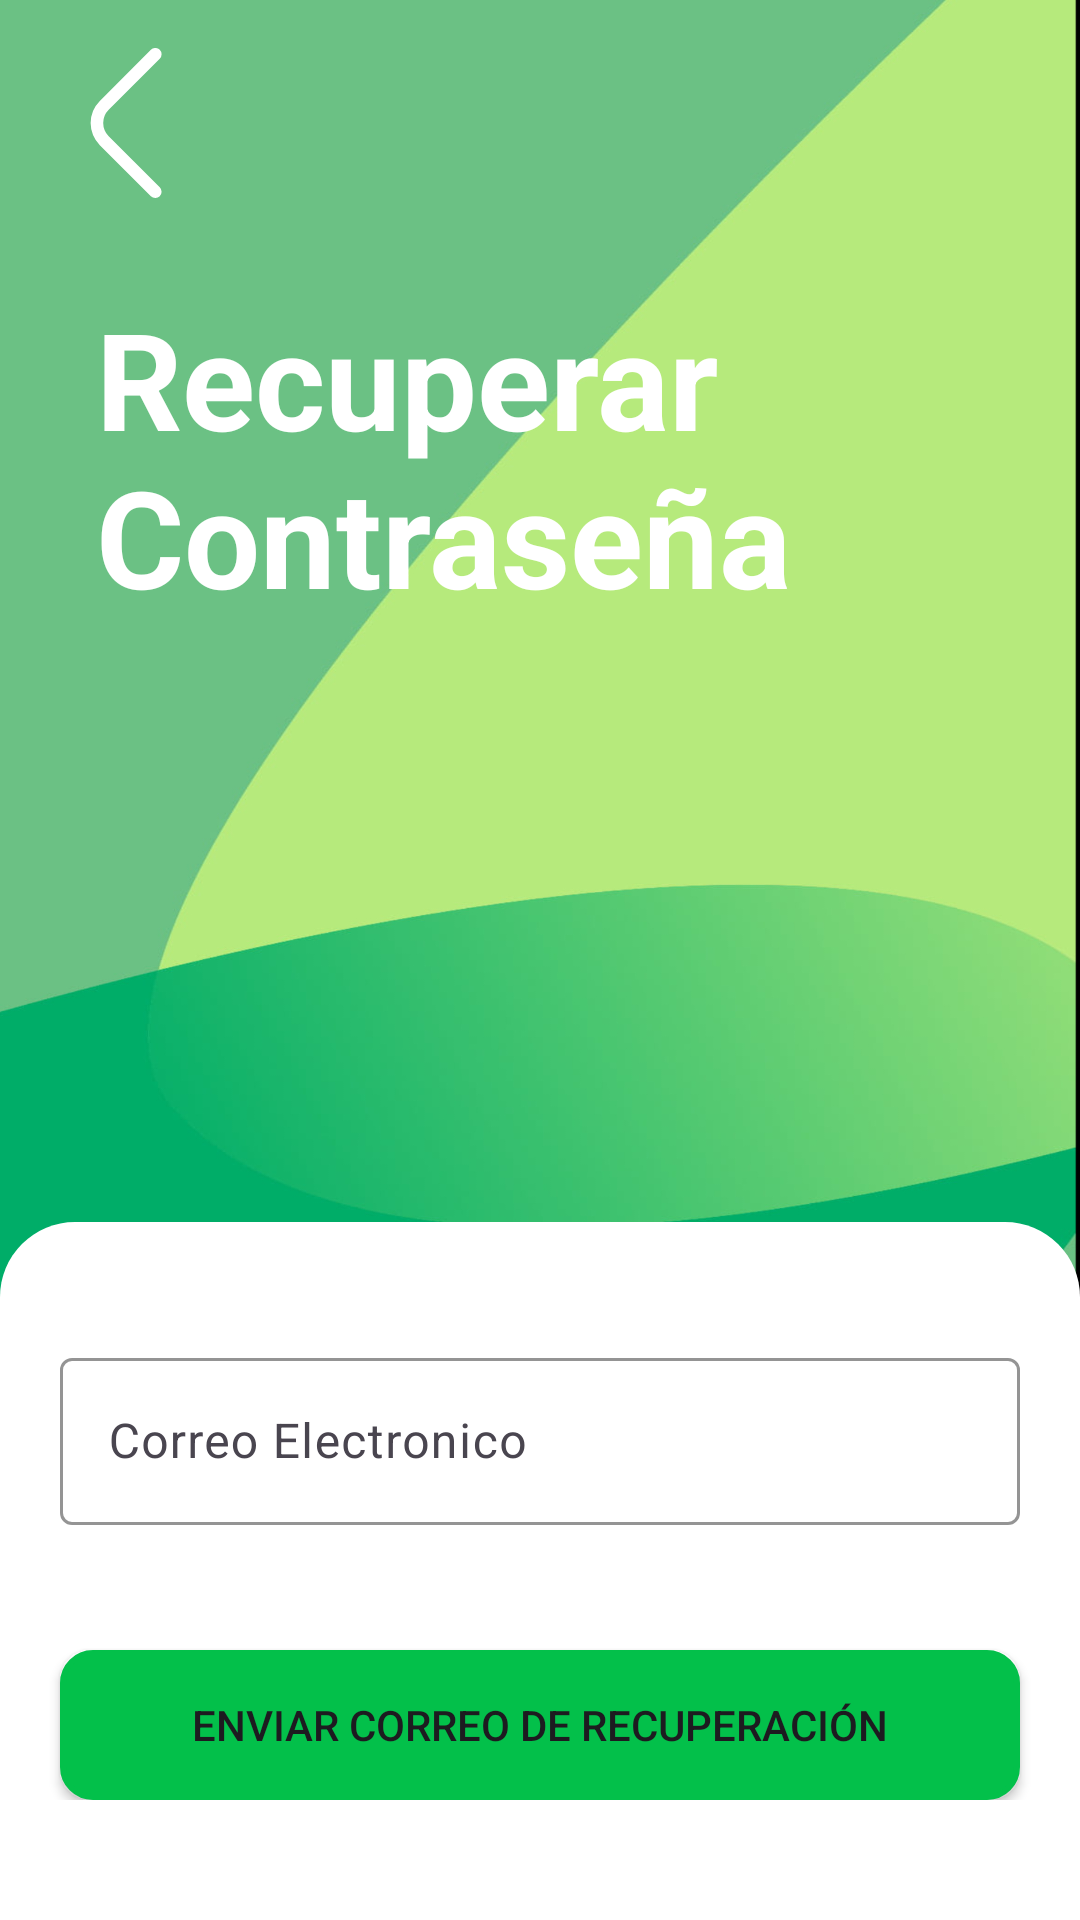

Icon click points for this 1080 × 1920 phone screenshot, format [x,y]:
angle left: [126,123]
